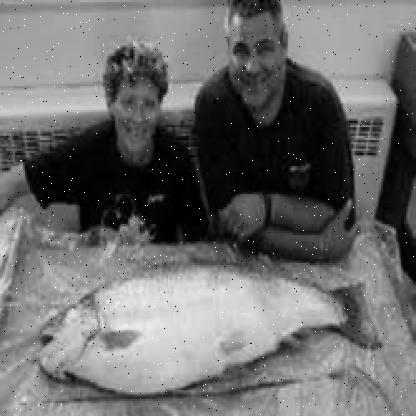fish: (34, 259, 379, 399)
